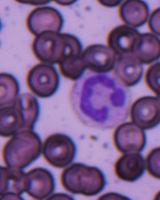N: (70, 71, 130, 129)
